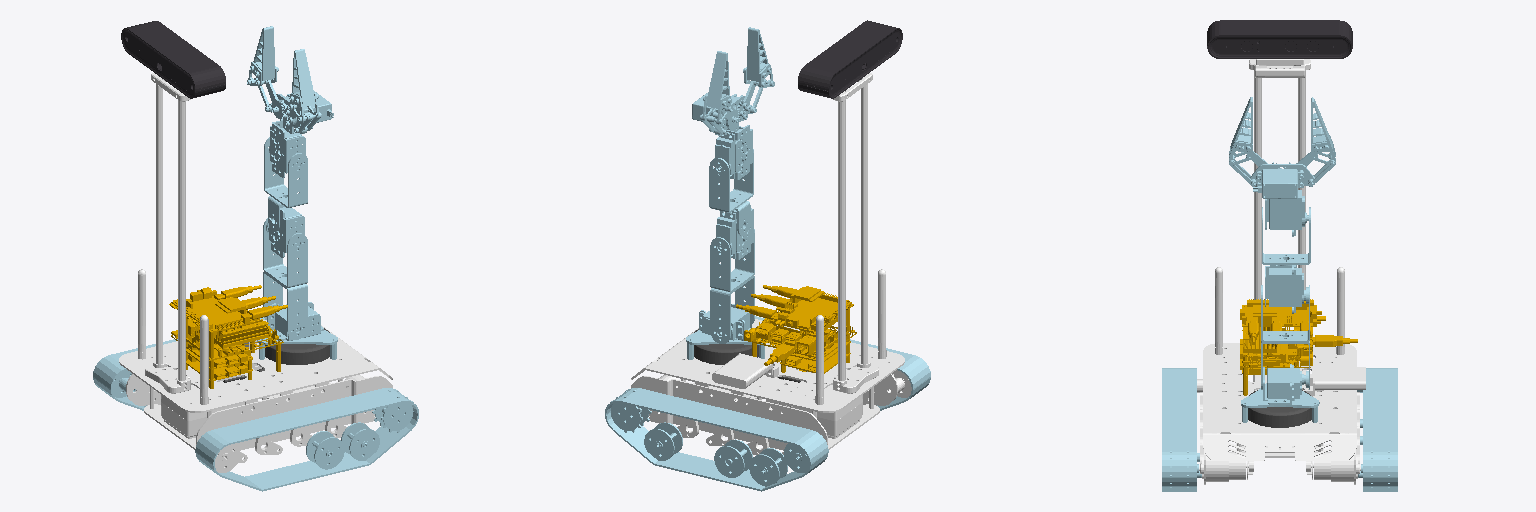
--- What the picture shows (computed from the rendered views, not written in the file) ---
The picture shows the robot from 3 angles, left to right: view 1: azimuth 30°, elevation 25°; view 2: azimuth 150°, elevation 25°; view 3: azimuth 270°, elevation 25°; orthographic projection.
Model mini_tank_moveit_four with 28 links and 27 joints (9 revolute, 12 continuous, 2 prismatic, 4 fixed), rooted at base_link, posed all joints at 0.
Links seen in each view (by area): view 1: base_link, right_belt_link, controller_link, camera_link, j1_link, j2_link, j3_link, arm_base_link, j4_6_link, j4_3_link, laser_link, right3_link (+4 smaller); view 2: base_link, left_belt_link, controller_link, camera_link, j2_link, j1_link, j3_link, arm_base_link, j4_3_link, j4_6_link, right_belt_link, left2_link (+5 smaller); view 3: base_link, camera_link, controller_link, right_belt_link, left_belt_link, j3_link, j2_link, arm_base_link, laser_link, j1_link, j4_3_link, j4_6_link.
Boxes of the visible links, box(x1,y1,x2,y2) form: base_link: box(119, 73, 392, 462); right_belt_link: box(195, 388, 418, 491); controller_link: box(169, 285, 287, 388); camera_link: box(121, 21, 225, 98); j1_link: box(263, 218, 307, 339); j2_link: box(264, 137, 307, 257); j3_link: box(269, 91, 333, 177); arm_base_link: box(257, 302, 337, 359); j4_6_link: box(289, 49, 321, 122); j4_3_link: box(247, 26, 278, 85); laser_link: box(223, 328, 329, 382); right3_link: box(306, 431, 344, 469); base_link: box(631, 73, 904, 454); left_belt_link: box(605, 388, 828, 491); controller_link: box(736, 285, 856, 373); camera_link: box(798, 20, 902, 98); j2_link: box(709, 149, 753, 259); j1_link: box(710, 229, 754, 343); j3_link: box(692, 93, 752, 179); arm_base_link: box(686, 304, 764, 359); j4_3_link: box(700, 51, 732, 124); j4_6_link: box(743, 27, 774, 87); right_belt_link: box(755, 316, 930, 410); left2_link: box(644, 422, 682, 460); base_link: box(1199, 59, 1365, 484); camera_link: box(1207, 20, 1352, 58); controller_link: box(1240, 299, 1357, 395); right_belt_link: box(1162, 368, 1196, 491); left_belt_link: box(1363, 368, 1397, 491); j3_link: box(1250, 164, 1314, 236); j2_link: box(1262, 207, 1310, 313); arm_base_link: box(1241, 364, 1319, 422); laser_link: box(1248, 390, 1311, 427); j1_link: box(1261, 285, 1309, 389); j4_3_link: box(1311, 97, 1335, 165); j4_6_link: box(1229, 97, 1252, 165).
Bounding box of the posed robot: 0.2677 × 0.268 × 0.4992 m (x, y, z).
Meshes: 28 distinct files referenced, 25 mesh visuals loaded (25 binary STL); not drawn: 3 (reference not matched to a file when rendering).

URDF robot description (mini_tank_moveit_four):
<?xml version="1.0" encoding="utf-8"?>
<!-- This URDF was automatically created by SolidWorks to URDF Exporter! Originally created by Stephen Brawner ([email redacted]) 
     Commit Version: 1.6.0-4-g7f85cfe  Build Version: 1.6.7995.38578
     For more information, please see http://wiki.ros.org/sw_urdf_exporter -->
<robot
  name="mini_tank_moveit_four">
  <link
    name="base_link">
    <inertial>
      <origin
        xyz="-0.00563370901088039 0.00347050099564302 0.0696208578498239"
        rpy="0 0 0" />
      <mass
        value="0.660113332219596" />
      <inertia
        ixx="0.000868797624390438"
        ixy="-1.26133722015628E-06"
        ixz="1.14119011981248E-05"
        iyy="0.00139598029728407"
        iyz="-7.42409841925124E-07"
        izz="0.00130888479015152" />
    </inertial>
    <visual>
      <origin
        xyz="0 0 0"
        rpy="0 0 0" />
      <geometry>
        <mesh
          filename="package://wheeltec_robot_urdf/meshes/mini_tank_moveit_four_meshes/base_link.STL" />
      </geometry>
      <material
        name="">
        <color
          rgba="1 1 1 1" />
      </material>
    </visual>
    <collision>
      <origin
        xyz="0 0 0"
        rpy="0 0 0" />
      <geometry>
        <mesh
          filename="package://wheeltec_robot_urdf/meshes/mini_tank_moveit_four_meshes/base_link.STL" />
      </geometry>
    </collision>
  </link>
  <link
    name="left_belt_link">
    <inertial>
      <origin
        xyz="3.06749032175091E-07 -4.07347924002988E-07 -9.15763249675905E-08"
        rpy="0 0 0" />
      <mass
        value="0.046832126106698" />
      <inertia
        ixx="4.57124716005299E-05"
        ixy="-4.96070404796764E-17"
        ixz="-4.58335528582779E-17"
        iyy="0.000351903281199722"
        iyz="1.33742249094467E-18"
        izz="0.00031867937656098" />
    </inertial>
    <visual>
      <origin
        xyz="0 0 0"
        rpy="0 0 0" />
      <geometry>
        <mesh
          filename="package://wheeltec_robot_urdf/meshes/mini_tank_moveit_four_meshes/left_belt_link.STL" />
      </geometry>
      <material
        name="">
        <color
          rgba="0.741176470588235 0.901960784313726 0.956862745098039 1" />
      </material>
    </visual>
    <collision>
      <origin
        xyz="0 0 0"
        rpy="0 0 0" />
      <geometry>
        <mesh
          filename="package://wheeltec_robot_urdf/meshes/mini_tank_moveit_four_meshes/left_belt_link.STL" />
      </geometry>
    </collision>
  </link>
  <joint
    name="left_belt_link"
    type="prismatic">
    <origin
      xyz="0.0197057383379148 0.113995274101686 0.0115913749828786"
      rpy="0 0 0" />
    <parent
      link="base_link" />
    <child
      link="left_belt_link" />
    <axis
      xyz="0 -1 0" />
    <limit
      lower="0"
      upper="0"
      effort="0"
      velocity="0" />
  </joint>
  <link
    name="right_belt_link">
    <inertial>
      <origin
        xyz="3.06749377676496E-07 -4.07346416000931E-07 -9.15763250092239E-08"
        rpy="0 0 0" />
      <mass
        value="0.046832126106698" />
      <inertia
        ixx="4.57124716005299E-05"
        ixy="-4.96362650756196E-17"
        ixz="4.38301155785641E-17"
        iyy="0.000351903281199721"
        iyz="-1.33954023628121E-18"
        izz="0.00031867937656098" />
    </inertial>
    <visual>
      <origin
        xyz="0 0 0"
        rpy="0 0 0" />
      <geometry>
        <mesh
          filename="package://wheeltec_robot_urdf/meshes/mini_tank_moveit_four_meshes/right_belt_link.STL" />
      </geometry>
      <material
        name="">
        <color
          rgba="0.741176470588235 0.901960784313726 0.956862745098039 1" />
      </material>
    </visual>
    <collision>
      <origin
        xyz="0 0 0"
        rpy="0 0 0" />
      <geometry>
        <mesh
          filename="package://wheeltec_robot_urdf/meshes/mini_tank_moveit_four_meshes/right_belt_link.STL" />
      </geometry>
    </collision>
  </link>
  <joint
    name="right_belt_joint"
    type="prismatic">
    <origin
      xyz="0.019705738337914 -0.114004725898314 0.0115913749828786"
      rpy="0 0 0" />
    <parent
      link="base_link" />
    <child
      link="right_belt_link" />
    <axis
      xyz="0 -1 0" />
    <limit
      lower="0"
      upper="0"
      effort="0"
      velocity="0" />
  </joint>
  <link
    name="left1_link">
    <inertial>
      <origin
        xyz="3.06751169298902E-07 -0.00234867505904771 -3.74976118211467E-07"
        rpy="0 0 0" />
      <mass
        value="0.00673356818710682" />
      <inertia
        ixx="5.54319792581585E-07"
        ixy="1.13577902659869E-16"
        ixz="9.11878183168638E-17"
        iyy="1.04021977500485E-06"
        iyz="3.12836644260893E-16"
        izz="5.54319792581687E-07" />
    </inertial>
    <visual>
      <origin
        xyz="0 0 0"
        rpy="0 0 0" />
      <geometry>
        <mesh
          filename="package://wheeltec_robot_urdf/meshes/mini_tank_moveit_four_meshes/left1_link.STL" />
      </geometry>
      <material
        name="">
        <color
          rgba="0.741176470588235 0.901960784313726 0.956862745098039 1" />
      </material>
    </visual>
    <collision>
      <origin
        xyz="0 0 0"
        rpy="0 0 0" />
      <geometry>
        <mesh
          filename="package://wheeltec_robot_urdf/meshes/mini_tank_moveit_four_meshes/left1_link.STL" />
      </geometry>
    </collision>
  </link>
  <joint
    name="left1_joint"
    type="continuous">
    <origin
      xyz="0.130955738337915 0.114153274101686 0.021000374982879"
      rpy="0 0 0" />
    <parent
      link="base_link" />
    <child
      link="left1_link" />
    <axis
      xyz="0 -1 0" />
  </joint>
  <link
    name="right1_link">
    <inertial>
      <origin
        xyz="3.06748701606185E-07 0.00213407953536172 -3.74982871788332E-07"
        rpy="0 0 0" />
      <mass
        value="0.00741131569893439" />
      <inertia
        ixx="5.73195160519965E-07"
        ixy="4.92803699477838E-20"
        ixz="-2.26094762285151E-19"
        iyy="1.04521247120077E-06"
        iyz="-2.73654326604854E-19"
        izz="5.73195160520107E-07" />
    </inertial>
    <visual>
      <origin
        xyz="0 0 0"
        rpy="0 0 0" />
      <geometry>
        <mesh
          filename="package://wheeltec_robot_urdf/meshes/mini_tank_moveit_four_meshes/right1_link.STL" />
      </geometry>
      <material
        name="">
        <color
          rgba="0.741176470588235 0.901960784313726 0.956862745098039 1" />
      </material>
    </visual>
    <collision>
      <origin
        xyz="0 0 0"
        rpy="0 0 0" />
      <geometry>
        <mesh
          filename="package://wheeltec_robot_urdf/meshes/mini_tank_moveit_four_meshes/right1_link.STL" />
      </geometry>
    </collision>
  </link>
  <joint
    name="right1_joint"
    type="continuous">
    <origin
      xyz="0.130955738337914 -0.114163725898314 0.021000374982879"
      rpy="0 0 0" />
    <parent
      link="base_link" />
    <child
      link="right1_link" />
    <axis
      xyz="0 -1 0" />
  </joint>
  <link
    name="controller_link">
    <inertial>
      <origin
        xyz="-0.0539491061664906 0.0390181670737924 0.0473865757393537"
        rpy="0 0 0" />
      <mass
        value="0.0550353986450803" />
      <inertia
        ixx="2.61409858593474E-05"
        ixy="1.56143491437338E-06"
        ixz="-1.78383857608909E-07"
        iyy="2.6508796221861E-05"
        iyz="4.87077145370469E-07"
        izz="5.13405878475672E-05" />
    </inertial>
    <visual>
      <origin
        xyz="0 0 0"
        rpy="0 0 0" />
      <geometry>
        <mesh
          filename="package://wheeltec_robot_urdf/meshes/mini_tank_moveit_four_meshes/controller_link.STL" />
      </geometry>
      <material
        name="">
        <color
          rgba="0.941176470588235 0.709803921568627 0 1" />
      </material>
    </visual>
    <collision>
      <origin
        xyz="0 0 0"
        rpy="0 0 0" />
      <geometry>
        <mesh
          filename="package://wheeltec_robot_urdf/meshes/mini_tank_moveit_four_meshes/controller_link.STL" />
      </geometry>
    </collision>
  </link>
  <joint
    name="controller_joint"
    type="fixed">
    <origin
      xyz="0.0286110450803059 -0.0408763401345058 0.0649999999999997"
      rpy="0 0 0" />
    <parent
      link="base_link" />
    <child
      link="controller_link" />
    <axis
      xyz="0 0 0" />
  </joint>
  <link
    name="camera_link">
    <inertial>
      <origin
        xyz="4.98836156881399E-07 -1.36417311593837E-07 4.91851920469966E-07"
        rpy="0 0 0" />
      <mass
        value="0.0467968468943021" />
      <inertia
        ixx="0.000124054725474182"
        ixy="1.1478647559075E-07"
        ixz="9.32111574053576E-08"
        iyy="1.468249874252E-05"
        iyz="-1.36959949113259E-08"
        izz="0.000126757573886351" />
    </inertial>
    <visual>
      <origin
        xyz="0 0 0"
        rpy="0 0 0" />
      <geometry>
        <mesh
          filename="package://wheeltec_robot_urdf/meshes/mini_tank_moveit_four_meshes/camera_link.STL" />
      </geometry>
      <material
        name="">
        <color
          rgba="0.266666666666667 0.254901960784314 0.274509803921569 1" />
      </material>
    </visual>
    <collision>
      <origin
        xyz="0 0 0"
        rpy="0 0 0" />
      <geometry>
        <mesh
          filename="package://wheeltec_robot_urdf/meshes/mini_tank_moveit_four_meshes/camera_link.STL" />
      </geometry>
    </collision>
  </link>
  <joint
    name="camera_joint"
    type="fixed">
    <origin
      xyz="-0.0853842616620872 8.82741016866998E-05 0.457041374982878"
      rpy="0 0 0" />
    <parent
      link="base_link" />
    <child
      link="camera_link" />
    <axis
      xyz="0 0 0" />
  </joint>
  <link
    name="laser_link">
    <inertial>
      <origin
        xyz="0.00250630719502815 -1.12115764165996E-07 -0.019324690350315"
        rpy="0 0 0" />
      <mass
        value="0.037430730414936" />
      <inertia
        ixx="2.8047671941785E-05"
        ixy="-1.21024481826816E-08"
        ixz="1.07118139735685E-06"
        iyy="3.36164577580395E-05"
        iyz="2.58983543933408E-09"
        izz="4.50845467123446E-05" />
    </inertial>
    <visual>
      <origin
        xyz="0 0 0"
        rpy="0 0 0" />
      <geometry>
        <mesh
          filename="package://wheeltec_robot_urdf/meshes/mini_tank_moveit_four_meshes/laser.STL" />
      </geometry>
      <material
        name="">
        <color
          rgba="0.376470588235294 0.376470588235294 0.376470588235294 1" />
      </material>
    </visual>
    <collision>
      <origin
        xyz="0 0 0"
        rpy="0 0 0" />
      <geometry>
        <mesh
          filename="package://wheeltec_robot_urdf/meshes/mini_tank_moveit_four_meshes/laser.STL" />
      </geometry>
    </collision>
  </link>
  <joint
    name="laser_joint"
    type="fixed">
    <origin
      xyz="0.0732360450877941 0 0.0781742654243318"
      rpy="0 0 3.14159265358979" />
    <parent
      link="base_link" />
    <child
      link="laser_link" />
    <axis
      xyz="0 0 0" />
  </joint>
  <link
    name="left2_link">
    <inertial>
      <origin
        xyz="-4.70063000024279E-07 -0.00268672857425979 -9.13551913978017E-09"
        rpy="0 0 0" />
      <mass
        value="0.00653342793268102" />
      <inertia
        ixx="5.81624273129252E-07"
        ixy="1.67719415967181E-21"
        ixz="-5.8251747207928E-22"
        iyy="8.2380050290897E-07"
        iyz="2.333270276467E-22"
        izz="5.81624273129234E-07" />
    </inertial>
    <visual>
      <origin
        xyz="0 0 0"
        rpy="0 0 0" />
      <geometry>
        <mesh
          filename="package://wheeltec_robot_urdf/meshes/mini_tank_moveit_four_meshes/left2_link.STL" />
      </geometry>
      <material
        name="">
        <color
          rgba="0.741176470588235 0.901960784313726 0.956862745098039 1" />
      </material>
    </visual>
    <collision>
      <origin
        xyz="0 0 0"
        rpy="0 0 0" />
      <geometry>
        <mesh
          filename="package://wheeltec_robot_urdf/meshes/mini_tank_moveit_four_meshes/left2_link.STL" />
      </geometry>
    </collision>
  </link>
  <joint
    name="left2_joint"
    type="continuous">
    <origin
      xyz="0.0876357383379148 0.114353274101686 -0.00577762501712117"
      rpy="0 0 0" />
    <parent
      link="base_link" />
    <child
      link="left2_link" />
    <axis
      xyz="0 1 0" />
  </joint>
  <link
    name="left3_link">
    <inertial>
      <origin
        xyz="-4.70062999913257E-07 -0.00268672857425975 -9.13551915365796E-09"
        rpy="0 0 0" />
      <mass
        value="0.00653342793268102" />
      <inertia
        ixx="5.81624273129252E-07"
        ixy="1.6768164635353E-21"
        ixz="-5.80817310641833E-22"
        iyy="8.2380050290897E-07"
        iyz="2.33338902505841E-22"
        izz="5.81624273129234E-07" />
    </inertial>
    <visual>
      <origin
        xyz="0 0 0"
        rpy="0 0 0" />
      <geometry>
        <mesh
          filename="package://wheeltec_robot_urdf/meshes/mini_tank_moveit_four_meshes/left3_link.STL" />
      </geometry>
      <material
        name="">
        <color
          rgba="0.741176470588235 0.901960784313726 0.956862745098039 1" />
      </material>
    </visual>
    <collision>
      <origin
        xyz="0 0 0"
        rpy="0 0 0" />
      <geometry>
        <mesh
          filename="package://wheeltec_robot_urdf/meshes/mini_tank_moveit_four_meshes/left3_link.STL" />
      </geometry>
    </collision>
  </link>
  <joint
    name="left3_joint"
    type="continuous">
    <origin
      xyz="0.0426357383379148 0.114353274101686 -0.00577762501712133"
      rpy="0 0 0" />
    <parent
      link="base_link" />
    <child
      link="left3_link" />
    <axis
      xyz="0 1 0" />
  </joint>
  <link
    name="left4_link">
    <inertial>
      <origin
        xyz="-4.70063000024279E-07 -0.00268672857425976 -9.13551914671906E-09"
        rpy="0 0 0" />
      <mass
        value="0.00653342793268102" />
      <inertia
        ixx="5.81624273129252E-07"
        ixy="1.67719415967181E-21"
        ixz="-5.82685491037576E-22"
        iyy="8.2380050290897E-07"
        iyz="2.333270276467E-22"
        izz="5.81624273129234E-07" />
    </inertial>
    <visual>
      <origin
        xyz="0 0 0"
        rpy="0 0 0" />
      <geometry>
        <mesh
          filename="package://wheeltec_robot_urdf/meshes/mini_tank_moveit_four_meshes/left4_link.STL" />
      </geometry>
      <material
        name="">
        <color
          rgba="0.741176470588235 0.901960784313726 0.956862745098039 1" />
      </material>
    </visual>
    <collision>
      <origin
        xyz="0 0 0"
        rpy="0 0 0" />
      <geometry>
        <mesh
          filename="package://wheeltec_robot_urdf/meshes/mini_tank_moveit_four_meshes/left4_link.STL" />
      </geometry>
    </collision>
  </link>
  <joint
    name="left4_joint"
    type="continuous">
    <origin
      xyz="-0.00236426166208514 0.114353274101686 -0.00577762501712149"
      rpy="0 0 0" />
    <parent
      link="base_link" />
    <child
      link="left4_link" />
    <axis
      xyz="0 1 0" />
  </joint>
  <link
    name="left5_link">
    <inertial>
      <origin
        xyz="-4.70062999913257E-07 -0.00268672857425976 -9.13551911202459E-09"
        rpy="0 0 0" />
      <mass
        value="0.00653342793268102" />
      <inertia
        ixx="5.81624273129252E-07"
        ixy="1.6768164635353E-21"
        ixz="-5.80434405972955E-22"
        iyy="8.2380050290897E-07"
        iyz="2.33338902505841E-22"
        izz="5.81624273129234E-07" />
    </inertial>
    <visual>
      <origin
        xyz="0 0 0"
        rpy="0 0 0" />
      <geometry>
        <mesh
          filename="package://wheeltec_robot_urdf/meshes/mini_tank_moveit_four_meshes/left5_link.STL" />
      </geometry>
      <material
        name="">
        <color
          rgba="0.741176470588235 0.901960784313726 0.956862745098039 1" />
      </material>
    </visual>
    <collision>
      <origin
        xyz="0 0 0"
        rpy="0 0 0" />
      <geometry>
        <mesh
          filename="package://wheeltec_robot_urdf/meshes/mini_tank_moveit_four_meshes/left5_link.STL" />
      </geometry>
    </collision>
  </link>
  <joint
    name="left5_joint"
    type="continuous">
    <origin
      xyz="-0.0473642616620852 0.114353274101687 -0.00577762501712167"
      rpy="0 0 0" />
    <parent
      link="base_link" />
    <child
      link="left5_link" />
    <axis
      xyz="0 1 0" />
  </joint>
  <link
    name="left6_link">
    <inertial>
      <origin
        xyz="3.06749700085263E-07 -0.00945290154445347 -3.74982880010921E-07"
        rpy="0 0 0" />
      <mass
        value="0.00913650206360881" />
      <inertia
        ixx="8.75883055310694E-07"
        ixy="-1.00367266768617E-22"
        ixz="-7.31615404770018E-21"
        iyy="9.13658430538984E-07"
        iyz="2.71495477837994E-22"
        izz="8.75883055310699E-07" />
    </inertial>
    <visual>
      <origin
        xyz="0 0 0"
        rpy="0 0 0" />
      <geometry>
        <mesh
          filename="package://wheeltec_robot_urdf/meshes/mini_tank_moveit_four_meshes/left6_link.STL" />
      </geometry>
      <material
        name="">
        <color
          rgba="0.741176470588235 0.901960784313726 0.956862745098039 1" />
      </material>
    </visual>
    <collision>
      <origin
        xyz="0 0 0"
        rpy="0 0 0" />
      <geometry>
        <mesh
          filename="package://wheeltec_robot_urdf/meshes/mini_tank_moveit_four_meshes/left6_link.STL" />
      </geometry>
    </collision>
  </link>
  <joint
    name="left6_joint"
    type="continuous">
    <origin
      xyz="-0.0915442616620852 0.114353274101687 0.0210003749828782"
      rpy="0 0 0" />
    <parent
      link="base_link" />
    <child
      link="left6_link" />
    <axis
      xyz="0 -1 0" />
  </joint>
  <link
    name="right2_link">
    <inertial>
      <origin
        xyz="-4.70062999802234E-07 0.00268691387991982 -9.13551896630782E-09"
        rpy="0 0 0" />
      <mass
        value="0.00653342793268096" />
      <inertia
        ixx="5.81624273129229E-07"
        ixy="4.06534835447758E-22"
        ixz="-4.29877343235212E-21"
        iyy="8.23800502908955E-07"
        iyz="6.92646347119568E-22"
        izz="5.81624273129244E-07" />
    </inertial>
    <visual>
      <origin
        xyz="0 0 0"
        rpy="0 0 0" />
      <geometry>
        <mesh
          filename="package://wheeltec_robot_urdf/meshes/mini_tank_moveit_four_meshes/right2_link.STL" />
      </geometry>
      <material
        name="">
        <color
          rgba="0.741176470588235 0.901960784313726 0.956862745098039 1" />
      </material>
    </visual>
    <collision>
      <origin
        xyz="0 0 0"
        rpy="0 0 0" />
      <geometry>
        <mesh
          filename="package://wheeltec_robot_urdf/meshes/mini_tank_moveit_four_meshes/right2_link.STL" />
      </geometry>
    </collision>
  </link>
  <joint
    name="right2_joint"
    type="continuous">
    <origin
      xyz="0.087635738337914 -0.114363725898314 -0.00577762501712117"
      rpy="0 0 0" />
    <parent
      link="base_link" />
    <child
      link="right2_link" />
    <axis
      xyz="0 -1 0" />
  </joint>
  <link
    name="right3_link">
    <inertial>
      <origin
        xyz="-4.70063000024279E-07 0.0026869138799198 -9.13551898018561E-09"
        rpy="0 0 0" />
      <mass
        value="0.00653342793268096" />
      <inertia
        ixx="5.81624273129229E-07"
        ixy="4.06534835447758E-22"
        ixz="-4.29876128389419E-21"
        iyy="8.23800502908955E-07"
        iyz="6.92646347119568E-22"
        izz="5.81624273129243E-07" />
    </inertial>
    <visual>
      <origin
        xyz="0 0 0"
        rpy="0 0 0" />
      <geometry>
        <mesh
          filename="package://wheeltec_robot_urdf/meshes/mini_tank_moveit_four_meshes/right3_link.STL" />
      </geometry>
      <material
        name="">
        <color
          rgba="0.741176470588235 0.901960784313726 0.956862745098039 1" />
      </material>
    </visual>
    <collision>
      <origin
        xyz="0 0 0"
        rpy="0 0 0" />
      <geometry>
        <mesh
          filename="package://wheeltec_robot_urdf/meshes/mini_tank_moveit_four_meshes/right3_link.STL" />
      </geometry>
    </collision>
  </link>
  <joint
    name="right3_joint"
    type="continuous">
    <origin
      xyz="0.0426357383379141 -0.114363725898314 -0.00577762501712133"
      rpy="0 0 0" />
    <parent
      link="base_link" />
    <child
      link="right3_link" />
    <axis
      xyz="0 -1 0" />
  </joint>
  <link
    name="right4_link">
    <inertial>
      <origin
        xyz="-4.70062999968768E-07 0.0026869138799198 -9.13551898018561E-09"
        rpy="0 0 0" />
      <mass
        value="0.00653342793268096" />
      <inertia
        ixx="5.81624273129229E-07"
        ixy="4.06534835447758E-22"
        ixz="-4.29882477366235E-21"
        iyy="8.23800502908956E-07"
        iyz="6.92646347119568E-22"
        izz="5.81624273129244E-07" />
    </inertial>
    <visual>
      <origin
        xyz="0 0 0"
        rpy="0 0 0" />
      <geometry>
        <mesh
          filename="package://wheeltec_robot_urdf/meshes/mini_tank_moveit_four_meshes/right4_link.STL" />
      </geometry>
      <material
        name="">
        <color
          rgba="0.741176470588235 0.901960784313726 0.956862745098039 1" />
      </material>
    </visual>
    <collision>
      <origin
        xyz="0 0 0"
        rpy="0 0 0" />
      <geometry>
        <mesh
          filename="package://wheeltec_robot_urdf/meshes/mini_tank_moveit_four_meshes/right4_link.STL" />
      </geometry>
    </collision>
  </link>
  <joint
    name="right4_joint"
    type="continuous">
    <origin
      xyz="-0.00236426166208586 -0.114363725898314 -0.00577762501712149"
      rpy="0 0 0" />
    <parent
      link="base_link" />
    <child
      link="right4_link" />
    <axis
      xyz="0 -1 0" />
  </joint>
  <link
    name="right5_link">
    <inertial>
      <origin
        xyz="-4.70062999857745E-07 0.00268691387991982 -9.13551898018561E-09"
        rpy="0 0 0" />
      <mass
        value="0.00653342793268096" />
      <inertia
        ixx="5.81624273129229E-07"
        ixy="4.06534835447757E-22"
        ixz="-4.2989548404888E-21"
        iyy="8.23800502908955E-07"
        iyz="6.92646347119568E-22"
        izz="5.81624273129243E-07" />
    </inertial>
    <visual>
      <origin
        xyz="0 0 0"
        rpy="0 0 0" />
      <geometry>
        <mesh
          filename="package://wheeltec_robot_urdf/meshes/mini_tank_moveit_four_meshes/right5_link.STL" />
      </geometry>
      <material
        name="">
        <color
          rgba="0.741176470588235 0.901960784313726 0.956862745098039 1" />
      </material>
    </visual>
    <collision>
      <origin
        xyz="0 0 0"
        rpy="0 0 0" />
      <geometry>
        <mesh
          filename="package://wheeltec_robot_urdf/meshes/mini_tank_moveit_four_meshes/right5_link.STL" />
      </geometry>
    </collision>
  </link>
  <joint
    name="right5_joint"
    type="continuous">
    <origin
      xyz="-0.047364261662086 -0.114363725898313 -0.00577762501712165"
      rpy="0 0 0" />
    <parent
      link="base_link" />
    <child
      link="right5_link" />
    <axis
      xyz="0 -1 0" />
  </joint>
  <link
    name="right6_link">
    <inertial>
      <origin
        xyz="3.06749700029751E-07 0.00944543793167806 -3.74982880038677E-07"
        rpy="0 0 0" />
      <mass
        value="0.00913049880359953" />
      <inertia
        ixx="8.75649075307428E-07"
        ixy="-2.20630405543993E-22"
        ixz="6.93419831772086E-21"
        iyy="9.13508327251434E-07"
        iyz="-6.35488234510978E-22"
        izz="8.75649075307433E-07" />
    </inertial>
    <visual>
      <origin
        xyz="0 0 0"
        rpy="0 0 0" />
      <geometry>
        <mesh
          filename="package://wheeltec_robot_urdf/meshes/mini_tank_moveit_four_meshes/right6_link.STL" />
      </geometry>
      <material
        name="">
        <color
          rgba="1 1 1 1" />
      </material>
    </visual>
    <collision>
      <origin
        xyz="0 0 0"
        rpy="0 0 0" />
      <geometry>
        <mesh
          filename="package://wheeltec_robot_urdf/meshes/mini_tank_moveit_four_meshes/right6_link.STL" />
      </geometry>
    </collision>
  </link>
  <joint
    name="right6_joint"
    type="continuous">
    <origin
      xyz="-0.091544261662086 -0.114363725898313 0.0210003749828783"
      rpy="0 0 0" />
    <parent
      link="base_link" />
    <child
      link="right6_link" />
    <axis
      xyz="0 -1 0" />
  </joint>
  <link
    name="arm_base_link">
    <inertial>
      <origin
        xyz="-0.00163518777379218 0.00298691234293402 0.00851774118787323"
        rpy="0 0 0" />
      <mass
        value="0.0515274791390344" />
      <inertia
        ixx="1.1609539109862E-05"
        ixy="1.52166973048633E-07"
        ixz="-6.11635522945858E-11"
        iyy="1.2331750464586E-05"
        iyz="1.45081779342954E-07"
        izz="2.108948584701E-05" />
    </inertial>
    <visual>
      <origin
        xyz="0 0 0"
        rpy="0 0 0" />
      <geometry>
        <mesh
          filename="package://wheeltec_robot_urdf/meshes/mini_tank_moveit_four_meshes/arm_base_link.STL" />
      </geometry>
      <material
        name="">
        <color
          rgba="0.741176470588235 0.901960784313726 0.956862745098039 1" />
      </material>
    </visual>
    <collision>
      <origin
        xyz="0 0 0"
        rpy="0 0 0" />
      <geometry>
        <mesh
          filename="package://wheeltec_robot_urdf/meshes/mini_tank_moveit_four_meshes/arm_base_link.STL" />
      </geometry>
    </collision>
  </link>
  <joint
    name="arm_base_joint"
    type="fixed">
    <origin
      xyz="0.0732516351464235 0 0.0870000000000004"
      rpy="0 0 0" />
    <parent
      link="base_link" />
    <child
      link="arm_base_link" />
    <axis
      xyz="0 0 0" />
    <limit
      effort="100"
      velocity="0" />
  </joint>
  <link
    name="j1_link">
    <inertial>
      <origin
        xyz="-1.16573417585641E-15 -0.049651907729049 -0.0237858190346658"
        rpy="0 0 0" />
      <mass
        value="0.0173546467959671" />
      <inertia
        ixx="1.62161311115798E-05"
        ixy="-3.88542555937627E-20"
        ixz="-2.52394940872413E-19"
        iyy="1.04896423510421E-05"
        iyz="-2.52789278313818E-20"
        izz="7.52372716212681E-06" />
    </inertial>
    <visual>
      <origin
        xyz="0 0 0"
        rpy="0 0 0" />
      <geometry>
        <mesh
          filename="package://wheeltec_robot_urdf/meshes/mini_tank_moveit_four_meshes/j1_link.STL" />
      </geometry>
      <material
        name="">
        <color
          rgba="0.741176470588235 0.901960784313726 0.956862745098039 1" />
      </material>
    </visual>
    <collision>
      <origin
        xyz="0 0 0"
        rpy="0 0 0" />
      <geometry>
        <mesh
          filename="package://wheeltec_robot_urdf/meshes/mini_tank_moveit_four_meshes/j1_link.STL" />
      </geometry>
    </collision>
  </link>
  <joint
    name="j1_joint"
    type="revolute">
    <origin
      xyz="-0.0120155900586194 0.0315999999999981 0.0135000000000001"
      rpy="-1.5707963267949 0 0" />
    <parent
      link="arm_base_link" />
    <child
      link="j1_link" />
    <axis
      xyz="0 0 -1" />
    <limit
      lower="-0.785"
      upper="0.785"
      effort="500"
      velocity="0" />
  </joint>
  <link
    name="j2_link">
    <inertial>
      <origin
        xyz="-0.00114290586966936 -0.0203057136397975 -0.0277794376874352"
        rpy="0 0 0" />
      <mass
        value="0.0497610150256722" />
      <inertia
        ixx="1.97699131876004E-05"
        ixy="1.29484660544357E-07"
        ixz="1.45081779342854E-07"
        iyy="1.21511693273601E-05"
        iyz="-1.52071961891761E-07"
        izz="1.16329572702907E-05" />
    </inertial>
    <visual>
      <origin
        xyz="0 0 0"
        rpy="0 0 0" />
      <geometry>
        <mesh
          filename="package://wheeltec_robot_urdf/meshes/mini_tank_moveit_four_meshes/j2_link.STL" />
      </geometry>
      <material
        name="">
        <color
          rgba="0.741176470588235 0.901960784313726 0.956862745098039 1" />
      </material>
    </visual>
    <collision>
      <origin
        xyz="0 0 0"
        rpy="0 0 0" />
      <geometry>
        <mesh
          filename="package://wheeltec_robot_urdf/meshes/mini_tank_moveit_four_meshes/j2_link.STL" />
      </geometry>
    </collision>
  </link>
  <joint
    name="j2_joint"
    type="revolute">
    <origin
      xyz="0 -0.105 0.00290000000000373"
      rpy="0 0 0" />
    <parent
      link="j1_link" />
    <child
      link="j2_link" />
    <axis
      xyz="0 0 1" />
    <limit
      lower="-0.785"
      upper="0.785"
      effort="500"
      velocity="0" />
  </joint>
  <link
    name="j3_link">
    <inertial>
      <origin
        xyz="0.00965845712047197 -0.0317112971793103 -0.0315778046523803"
        rpy="0 0 0" />
      <mass
        value="0.0759942805834027" />
      <inertia
        ixx="1.87941665160983E-05"
        ixy="7.14341406063299E-11"
        ixz="1.43436144242955E-07"
        iyy="1.68791300138034E-05"
        iyz="-1.41803472103153E-07"
        izz="1.29473671165396E-05" />
    </inertial>
    <visual>
      <origin
        xyz="0 0 0"
        rpy="0 0 0" />
      <geometry>
        <mesh
          filename="package://wheeltec_robot_urdf/meshes/mini_tank_moveit_four_meshes/j3_link.STL" />
      </geometry>
      <material
        name="">
        <color
          rgba="0.741176470588235 0.901960784313726 0.956862745098039 1" />
      </material>
    </visual>
    <collision>
      <origin
        xyz="0 0 0"
        rpy="0 0 0" />
      <geometry>
        <mesh
          filename="package://wheeltec_robot_urdf/meshes/mini_tank_moveit_four_meshes/j3_link.STL" />
      </geometry>
    </collision>
  </link>
  <joint
    name="j3_joint"
    type="revolute">
    <origin
      xyz="0.000999999999999501 -0.0975 0.000500000000000833"
      rpy="0 0 0" />
    <parent
      link="j2_link" />
    <child
      link="j3_link" />
    <axis
      xyz="0 0 1" />
    <limit
      lower="-0.785"
      upper="0.785"
      effort="500"
      velocity="0" />
  </joint>
  <link
    name="j4_1_link">
    <inertial>
      <origin
        xyz="-0.00578076185681636 0.00509452654843555 0.00179365582377028"
        rpy="0 0 0" />
      <mass
        value="0.00219045918301281" />
      <inertia
        ixx="2.0906242665288E-07"
        ixy="1.51745831304803E-07"
        ixz="7.17988350069021E-21"
        iyy="1.96989672055497E-07"
        iyz="-1.87379052848653E-21"
        izz="4.02766409933856E-07" />
    </inertial>
    <visual>
      <origin
        xyz="0 0 0"
        rpy="0 0 0" />
      <geometry>
        <mesh
          filename="package://wheeltec_robot_urdf/meshes/mini_tank_moveit_four_meshes/j4_1_link.STL" />
      </geometry>
      <material
        name="">
        <color
          rgba="0.741176470588235 0.901960784313726 0.956862745098039 1" />
      </material>
    </visual>
    <collision>
      <origin
        xyz="0 0 0"
        rpy="0 0 0" />
      <geometry>
        <mesh
          filename="package://wheeltec_robot_urdf/meshes/mini_tank_moveit_four_meshes/j4_1_link.STL" />
      </geometry>
    </collision>
  </link>
  <joint
    name="j4_1_joint"
    type="revolute">
    <origin
      xyz="-0.00650000000000217 -0.0540000000000188 -0.0199999999999773"
      rpy="1.57079632679489 0 1.57079632679488" />
    <parent
      link="j3_link" />
    <child
      link="j4_1_link" />
    <axis
      xyz="0 0 1" />
    <limit
      lower="-0.785"
      upper="0.785"
      effort="500"
      velocity="0" />
  </joint>
  <link
    name="j4_3_link">
    <inertial>
      <origin
        xyz="-0.0192779549943873 0.00614995365315772 0.000956906287297665"
        rpy="0 0 0" />
      <mass
        value="0.0110869919561475" />
      <inertia
        ixx="7.09382731891099E-07"
        ixy="-3.12169913809412E-07"
        ixz="4.47080027336571E-13"
        iyy="2.2663957421519E-06"
        iyz="6.32729733099629E-14"
        izz="2.52356011937647E-06" />
    </inertial>
    <visual>
      <origin
        xyz="0 0 0"
        rpy="0 0 0" />
      <geometry>
        <mesh
          filename="package://wheeltec_robot_urdf/meshes/mini_tank_moveit_four_meshes/j4_3_link.STL" />
      </geometry>
      <material
        name="">
        <color
          rgba="0.741176470588235 0.901960784313726 0.956862745098039 1" />
      </material>
    </visual>
    <collision>
      <origin
        xyz="0 0 0"
        rpy="0 0 0" />
      <geometry>
        <mesh
          filename="package://wheeltec_robot_urdf/meshes/mini_tank_moveit_four_meshes/j4_3_link.STL" />
      </geometry>
    </collision>
  </link>
  <joint
    name="j4_3_joint"
    type="revolute">
    <origin
      xyz="-0.0250231660532003 0.0244712312864288 0"
      rpy="0 0 0" />
    <parent
      link="j4_1_link" />
    <child
      link="j4_3_link" />
    <axis
      xyz="0 0 1" />
    <limit
      lower="-0.785"
      upper="0.785"
      effort="500"
      velocity="0" />
  </joint>
  <link
    name="j4_2_link">
    <inertial>
      <origin
        xyz="-0.00792758788489056 0.00869155303808133 0.000997425098482496"
        rpy="0 0 0" />
      <mass
        value="0.00162082922433878" />
      <inertia
        ixx="9.51378765002112E-08"
        ixy="8.30022521497659E-08"
        ixz="2.18153867197135E-21"
        iyy="9.88407225206157E-08"
        iyz="-1.99100908113927E-21"
        izz="1.76077539151752E-07" />
    </inertial>
    <visual>
      <origin
        xyz="0 0 0"
        rpy="0 0 0" />
      <geometry>
        <mesh
          filename="package://wheeltec_robot_urdf/meshes/mini_tank_moveit_four_meshes/j4_2_link.STL" />
      </geometry>
      <material
        name="">
        <color
          rgba="0.741176470588235 0.901960784313726 0.956862745098039 1" />
      </material>
    </visual>
    <collision>
      <origin
        xyz="0 0 0"
        rpy="0 0 0" />
      <geometry>
        <mesh
          filename="package://wheeltec_robot_urdf/meshes/mini_tank_moveit_four_meshes/j4_2_link.STL" />
      </geometry>
    </collision>
  </link>
  <joint
    name="j4_2_joint"
    type="revolute">
    <origin
      xyz="-0.000500000000002554 -0.0466465669184963 0.000203391346908555"
      rpy="1.57079632679489 0 1.57079632679488" />
    <parent
      link="j3_link" />
    <child
      link="j4_2_link" />
    <axis
      xyz="0 0 -1" />
    <limit
      lower="-0.785"
      upper="0.785"
      effort="500"
      velocity="0" />
  </joint>
  <link
    name="j4_4_link">
    <inertial>
      <origin
        xyz="0.00421464287575984 0.00356939552957056 0.00227514475316265"
        rpy="0 0 0" />
      <mass
        value="0.00307449011231024" />
      <inertia
        ixx="2.13872485116539E-07"
        ixy="-1.40876829989053E-07"
        ixz="5.30025443400261E-21"
        iyy="2.06574693872321E-07"
        iyz="5.75054377344137E-21"
        izz="4.07830138395684E-07" />
    </inertial>
    <visual>
      <origin
        xyz="0 0 0"
        rpy="0 0 0" />
      <geometry>
        <mesh
          filename="package://wheeltec_robot_urdf/meshes/mini_tank_moveit_four_meshes/j4_4_link.STL" />
      </geometry>
      <material
        name="">
        <color
          rgba="0.741176470588235 0.901960784313726 0.956862745098039 1" />
      </material>
    </visual>
    <collision>
      <origin
        xyz="0 0 0"
        rpy="0 0 0" />
      <geometry>
        <mesh
          filename="package://wheeltec_robot_urdf/meshes/mini_tank_moveit_four_meshes/j4_4_link.STL" />
      </geometry>
    </collision>
  </link>
  <joint
    name="j4_4_joint"
    type="revolute">
    <origin
      xyz="-0.00650000000000289 -0.0540000000000387 -0.0449999999999877"
      rpy="-1.57079632679489 0 -1.57079632679491" />
    <parent
      link="j3_link" />
    <child
      link="j4_4_link" />
    <axis
      xyz="0 0 1" />
    <limit
      lower="-0.785"
      upper="0.785"
      effort="500"
      velocity="0" />
  </joint>
  <link
    name="j4_6_link">
    <inertial>
      <origin
        xyz="0.0193552201368093 0.00658804624478794 0.000956905921696505"
        rpy="0 0 0" />
      <mass
        value="0.0110869938441036" />
      <inertia
        ixx="7.0939622356713E-07"
        ixy="3.12207718593043E-07"
        ixz="-3.44198273794744E-13"
        iyy="2.26638567960553E-06"
        iyz="3.99343166818361E-14"
        izz="2.52356347882982E-06" />
    </inertial>
    <visual>
      <origin
        xyz="0 0 0"
        rpy="0 0 0" />
      <geometry>
        <mesh
          filename="package://wheeltec_robot_urdf/meshes/mini_tank_moveit_four_meshes/j4_6_link.STL" />
      </geometry>
      <material
        name="">
        <color
          rgba="0.741176470588235 0.901960784313726 0.956862745098039 1" />
      </material>
    </visual>
    <collision>
      <origin
        xyz="0 0 0"
        rpy="0 0 0" />
      <geometry>
        <mesh
          filename="package://wheeltec_robot_urdf/meshes/mini_tank_moveit_four_meshes/j4_6_link.STL" />
      </geometry>
    </collision>
  </link>
  <joint
    name="j4_6_joint"
    type="revolute">
    <origin
      xyz="0.0253818801308857 0.0240989659741116 0"
      rpy="0 0 0" />
    <parent
      link="j4_4_link" />
    <child
      link="j4_6_link" />
    <axis
      xyz="0 0 1" />
    <limit
      lower="-0.785"
      upper="0.785"
      effort="500"
      velocity="0" />
  </joint>
  <link
    name="j4_5_link">
    <inertial>
      <origin
        xyz="0.00805509859122183 0.00857351325735721 0.000997425098479832"
        rpy="0 0 0" />
      <mass
        value="0.00162082922433876" />
      <inertia
        ixx="9.26870408637351E-08"
        ixy="-8.29113514522138E-08"
        ixz="3.23926974334751E-21"
        iyy="1.01291558157084E-07"
        iyz="2.95825511517228E-21"
        izz="1.76077539151744E-07" />
    </inertial>
    <visual>
      <origin
        xyz="0 0 0"
        rpy="0 0 0" />
      <geometry>
        <mesh
          filename="package://wheeltec_robot_urdf/meshes/mini_tank_moveit_four_meshes/j4_5_link.STL" />
      </geometry>
      <material
        name="">
        <color
          rgba="0.741176470588235 0.901960784313726 0.956862745098039 1" />
      </material>
    </visual>
    <collision>
      <origin
        xyz="0 0 0"
        rpy="0 0 0" />
      <geometry>
        <mesh
          filename="package://wheeltec_robot_urdf/meshes/mini_tank_moveit_four_meshes/j4_5_link.STL" />
      </geometry>
    </collision>
  </link>
  <joint
    name="j4_5_joint"
    type="revolute">
    <origin
      xyz="-0.000500000000002443 -0.0466465669185682 -0.0652033913468855"
      rpy="-1.57079632679489 0 -1.57079632679491" />
    <parent
      link="j3_link" />
    <child
      link="j4_5_link" />
    <axis
      xyz="0 0 -1" />
    <limit
      lower="-0.785"
      upper="0.785"
      effort="500"
      velocity="0" />
  </joint>
</robot>
